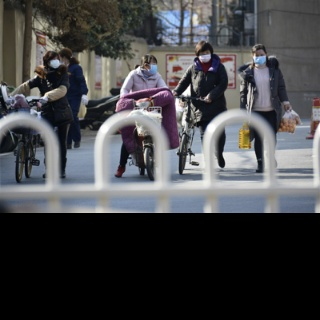with_mask: (198, 48, 212, 63), (253, 52, 267, 64), (147, 60, 158, 73), (49, 56, 60, 68)
